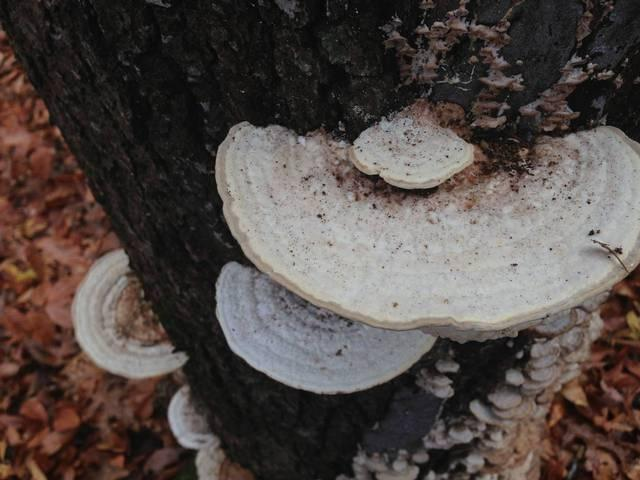Non-edible Mushroom: (188, 103, 640, 475), (61, 249, 231, 480)
